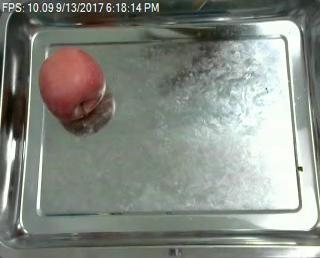apple: (39, 48, 106, 122)
